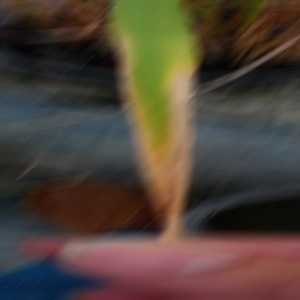Leaf_Blast: (116, 16, 201, 233)
